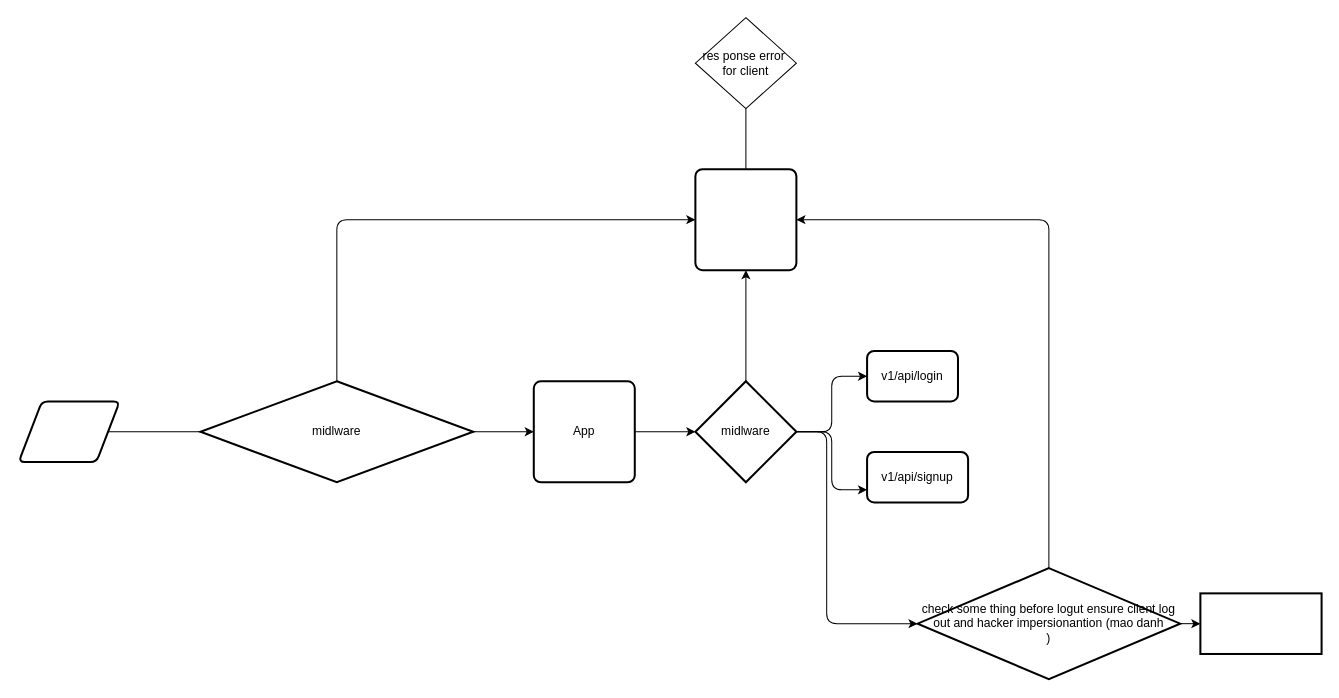
This 1339x698 diagram has some shape labels left out. Here are the shapes that lost their labels. From the top down, the centre of each, then its label:
At point (745, 219): "Error handler (app.js)".
At point (68, 431): "client".
At point (1260, 623): "v1/api/logout".
